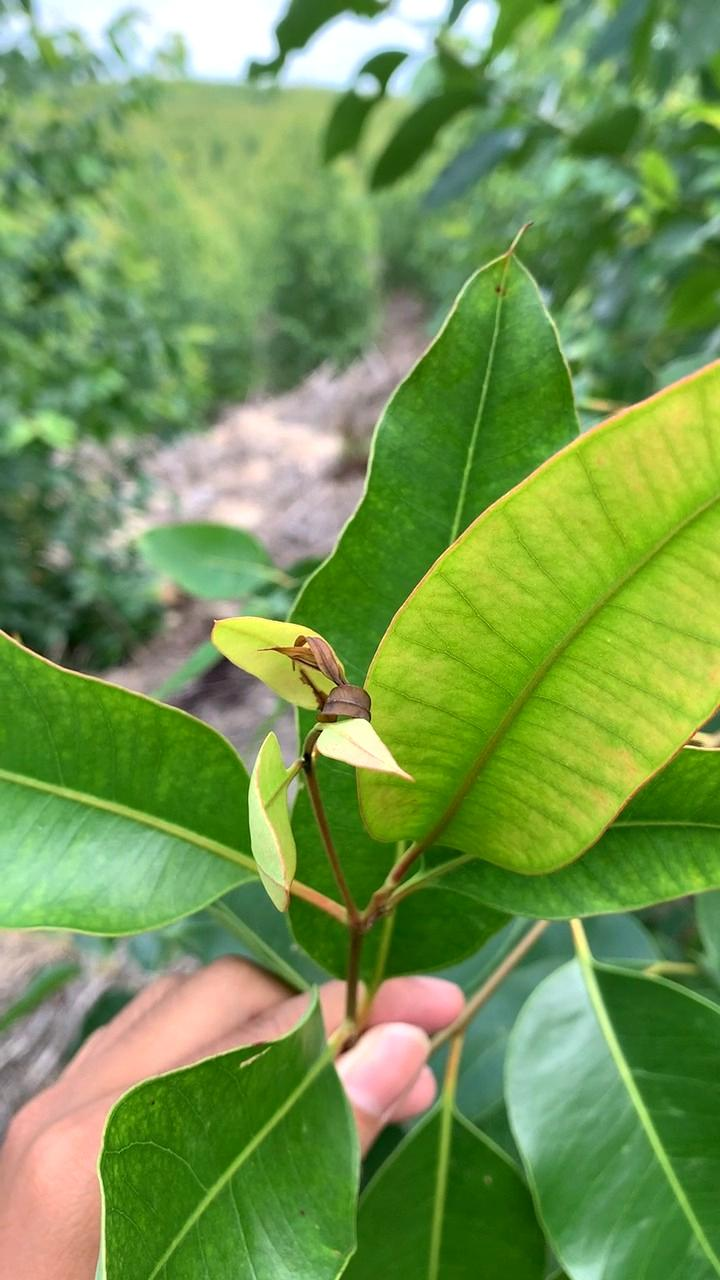Helopeltis-Withered Sprout: (267, 633, 377, 723)
